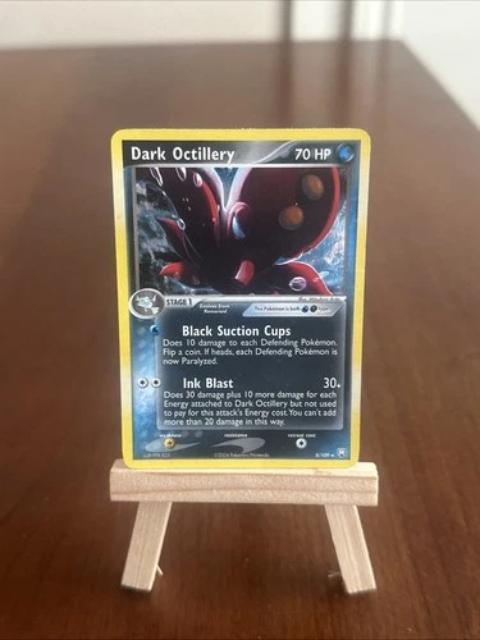Card: (106, 122, 375, 474)
Name: (122, 142, 241, 169)
